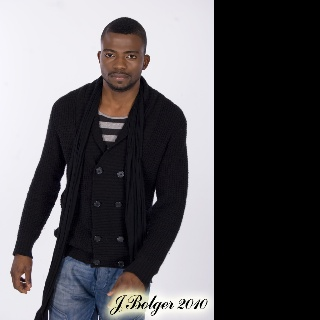without_mask: (99, 34, 145, 90)
